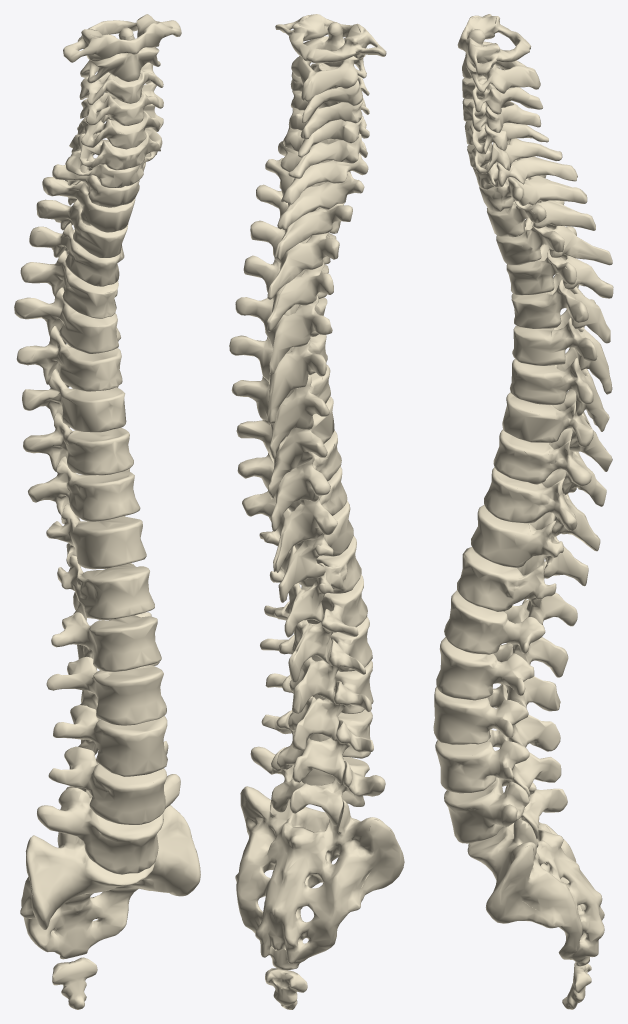
The model's file is coluna-vertebral.glb.
3 views of the same model, side by side, from view 1: azimuth 30°, elevation 25°; view 2: azimuth 150°, elevation 25°; view 3: azimuth 270°, elevation 25° (orthographic). The views are drawn at different scales.
Parts seen in each view (by area): view 1: Sacrum, Vertebra L5, Vertebra L2, Vertebra L4, Vertebra L3, Vertebra L1, Vertebra T12, Vertebra T10, Vertebra T11, Vertebra T9, Vertebra T8, Vertebra T7 (+14 smaller); view 2: Sacrum, Vertebra L5, Vertebra L4, Vertebra L2, Vertebra L1, Vertebra L3, Vertebra T10, Vertebra T6, Vertebra T9, Vertebra T7, Vertebra T12, Vertebra T8 (+14 smaller); view 3: Sacrum, Vertebra L2, Vertebra L1, Vertebra L3, Vertebra T12, Vertebra L4, Vertebra L5, Vertebra T11, Vertebra T10, Vertebra T9, Vertebra T8, Vertebra T7 (+14 smaller).
Part boxes in pixels (x1=…): Sacrum: x1=20, y1=805, x2=200, y2=959; Vertebra L5: x1=37, y1=774, x2=180, y2=874; Vertebra L2: x1=46, y1=656, x2=166, y2=725; Vertebra L4: x1=48, y1=741, x2=168, y2=824; Vertebra L3: x1=53, y1=705, x2=167, y2=776; Vertebra L1: x1=51, y1=612, x2=161, y2=671; Vertebra T12: x1=57, y1=554, x2=154, y2=620; Vertebra T10: x1=28, y1=456, x2=140, y2=523; Vertebra T11: x1=46, y1=504, x2=146, y2=569; Vertebra T9: x1=23, y1=412, x2=133, y2=475; Vertebra T8: x1=22, y1=368, x2=126, y2=432; Vertebra T7: x1=16, y1=326, x2=122, y2=391; Sacrum: x1=235, y1=786, x2=404, y2=969; Vertebra L5: x1=250, y1=746, x2=385, y2=825; Vertebra L4: x1=261, y1=709, x2=373, y2=783; Vertebra L2: x1=260, y1=616, x2=372, y2=713; Vertebra L1: x1=264, y1=574, x2=367, y2=682; Vertebra L3: x1=265, y1=660, x2=373, y2=750; Vertebra T10: x1=242, y1=466, x2=347, y2=572; Vertebra T6: x1=229, y1=334, x2=327, y2=424; Vertebra T9: x1=237, y1=430, x2=341, y2=531; Vertebra T7: x1=231, y1=364, x2=330, y2=458; Vertebra T12: x1=269, y1=535, x2=361, y2=637; Vertebra T8: x1=236, y1=396, x2=334, y2=499; Sacrum: x1=467, y1=782, x2=604, y2=966; Vertebra L2: x1=436, y1=637, x2=560, y2=711; Vertebra L1: x1=444, y1=590, x2=568, y2=677; Vertebra L3: x1=433, y1=684, x2=560, y2=751; Vertebra T12: x1=457, y1=547, x2=577, y2=626; Vertebra L4: x1=435, y1=729, x2=561, y2=796; Vertebra L5: x1=444, y1=777, x2=567, y2=843; Vertebra T11: x1=471, y1=505, x2=588, y2=586; Vertebra T10: x1=484, y1=467, x2=600, y2=551; Vertebra T9: x1=493, y1=428, x2=606, y2=506; Vertebra T8: x1=502, y1=389, x2=612, y2=471; Vertebra T7: x1=510, y1=347, x2=609, y2=431.
Size of the model in its own units: 0.1229 by 0.7225 by 0.1202.
